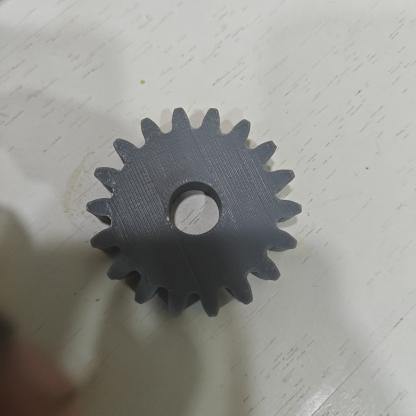gear: (86, 108, 302, 316)
